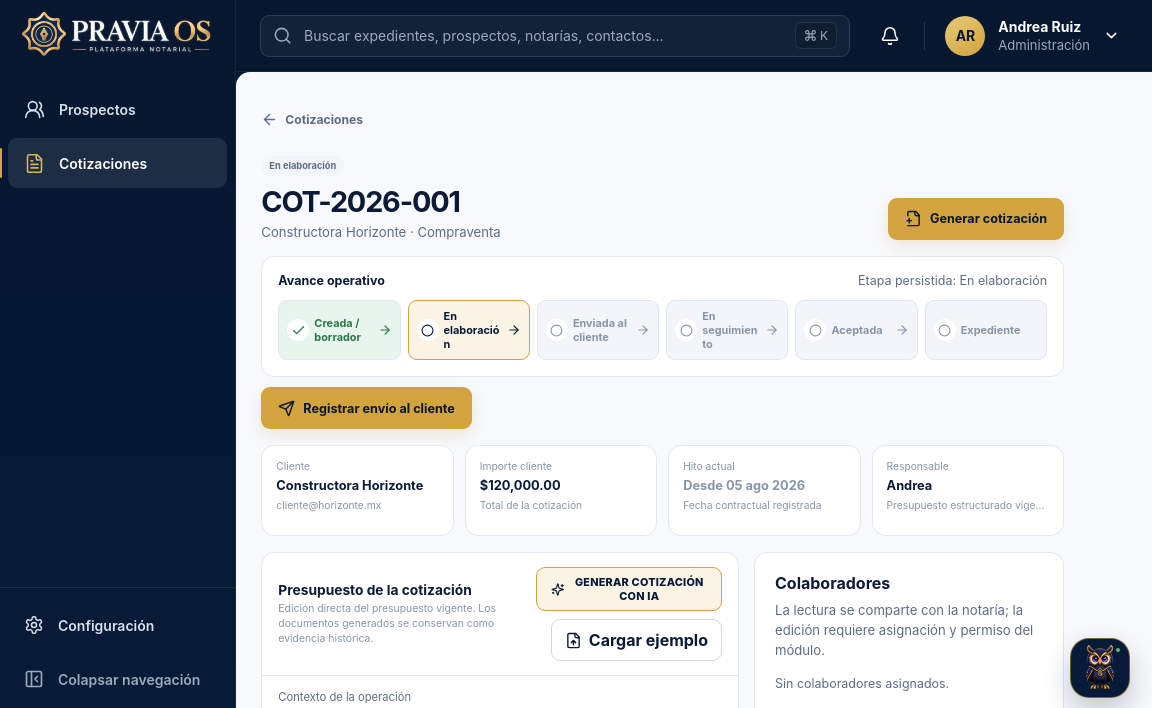
Test: Cotizaciones › redacta correo con IA como propuesta editable sin simular ni registrar el envío
Expected: the heading "COT-2026-001" is shown, [261, 184, 460, 219]
Click the button "Registrar envío al cliente" at (367, 408), box [261, 387, 472, 429]
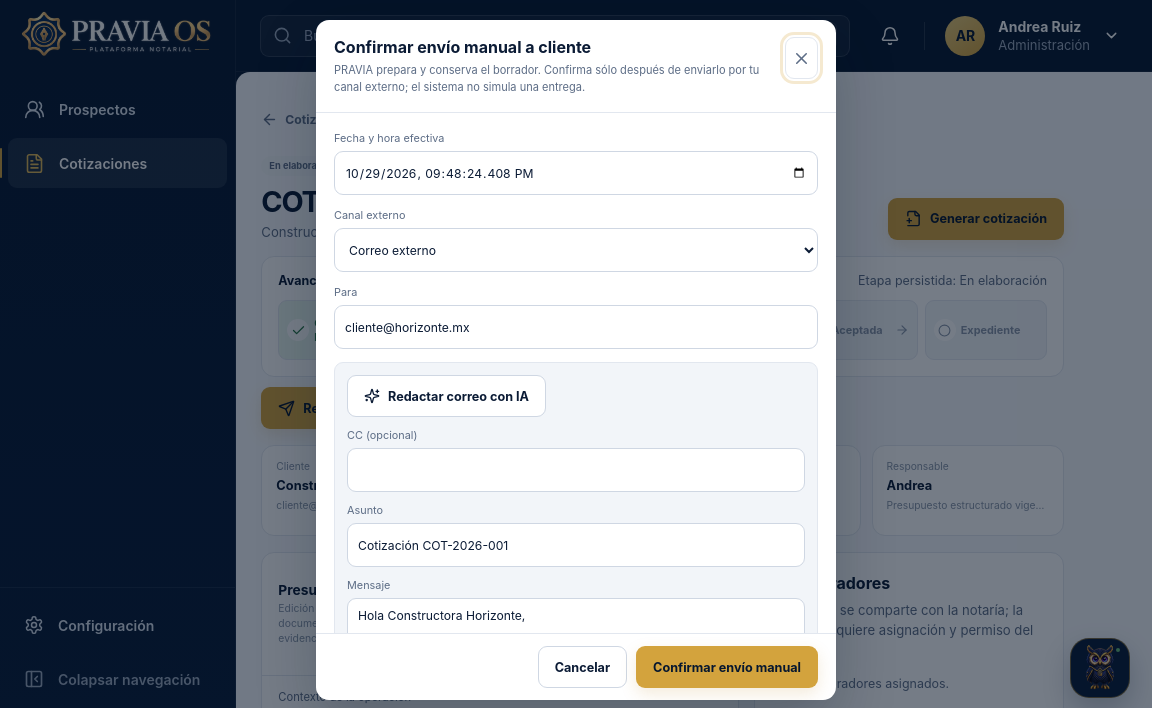
Click the button "Redactar correo con IA" at (446, 396), box [347, 375, 546, 417]
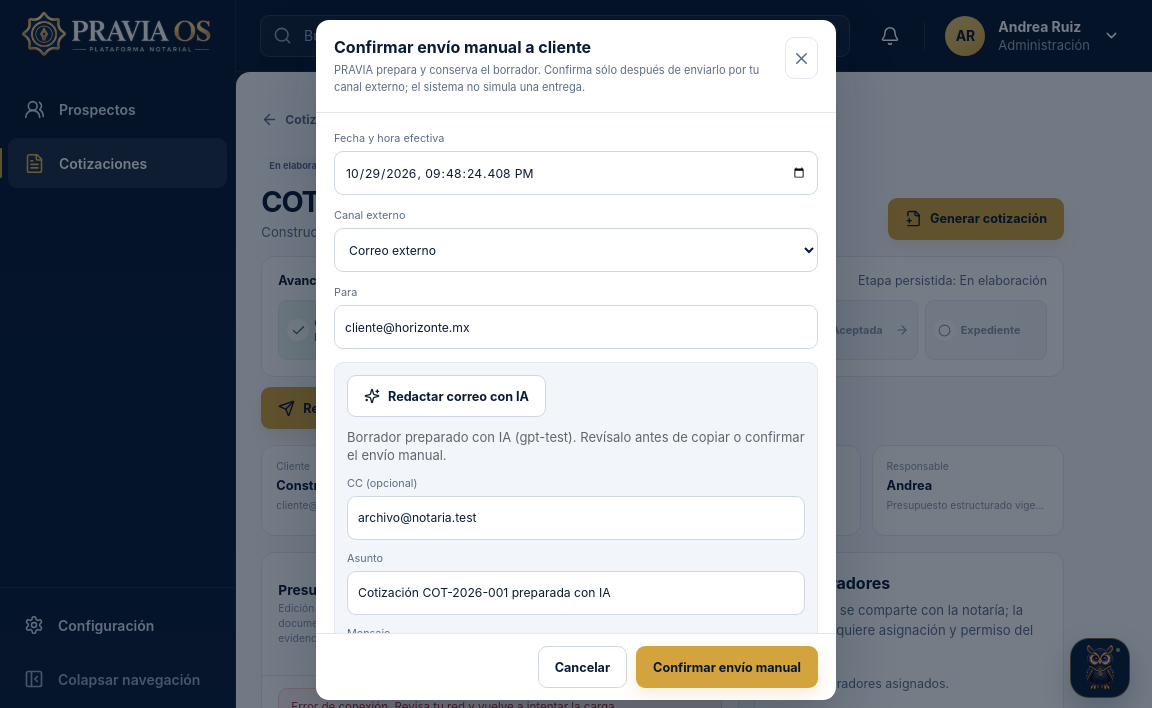
Now the field labelled "Para" holds "cliente@horizonte.mx", box [334, 305, 818, 349]
Now the field labelled "CC (opcional)" holds "archivo@notaria.test", box [347, 496, 805, 540]
Now the field labelled "Asunto" holds "Cotización COT-2026-001 preparada con IA", box [347, 570, 805, 614]
